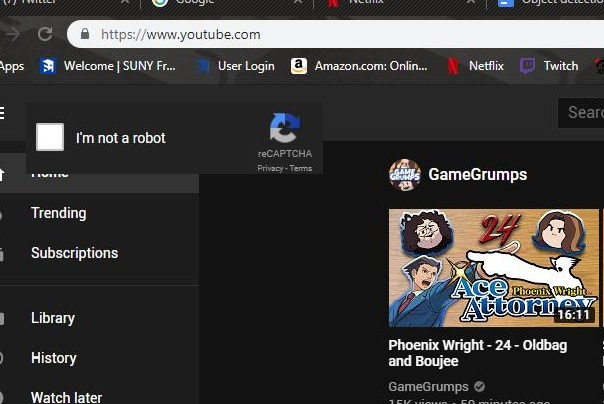captcha: (36, 121, 167, 152)
